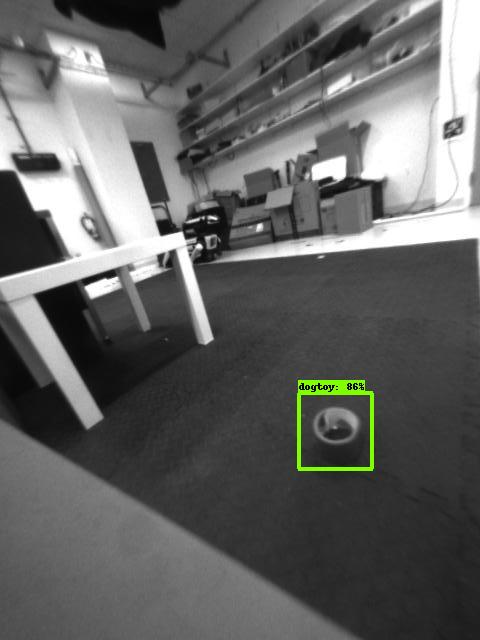dogtoy: (296, 395, 370, 464)
